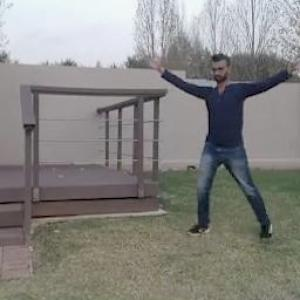takeoff: (149, 49, 299, 237)
